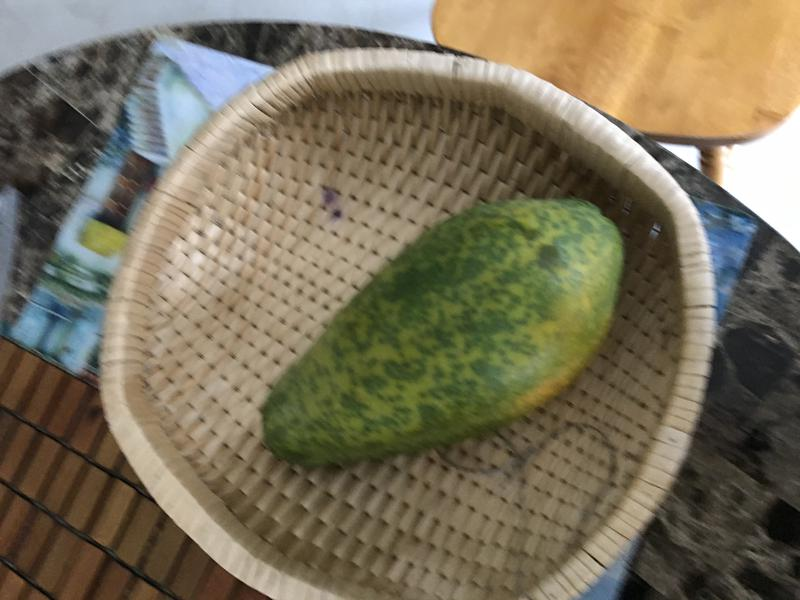papaya: (255, 184, 626, 475)
